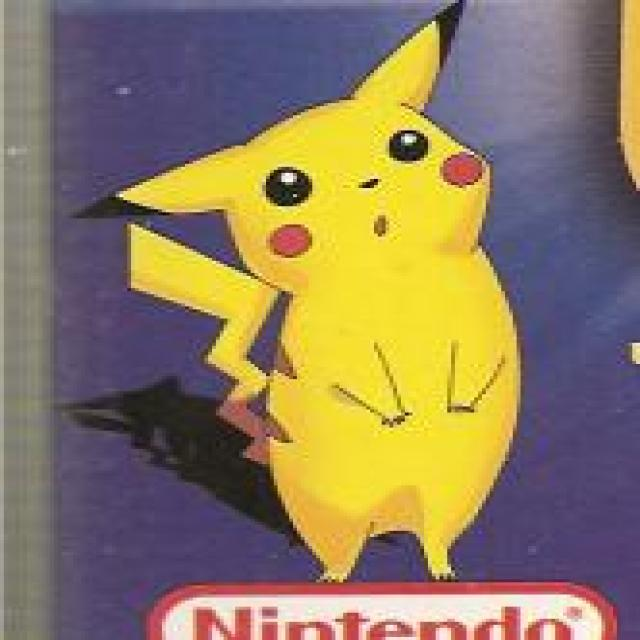pikachu: (76, 1, 523, 585)
